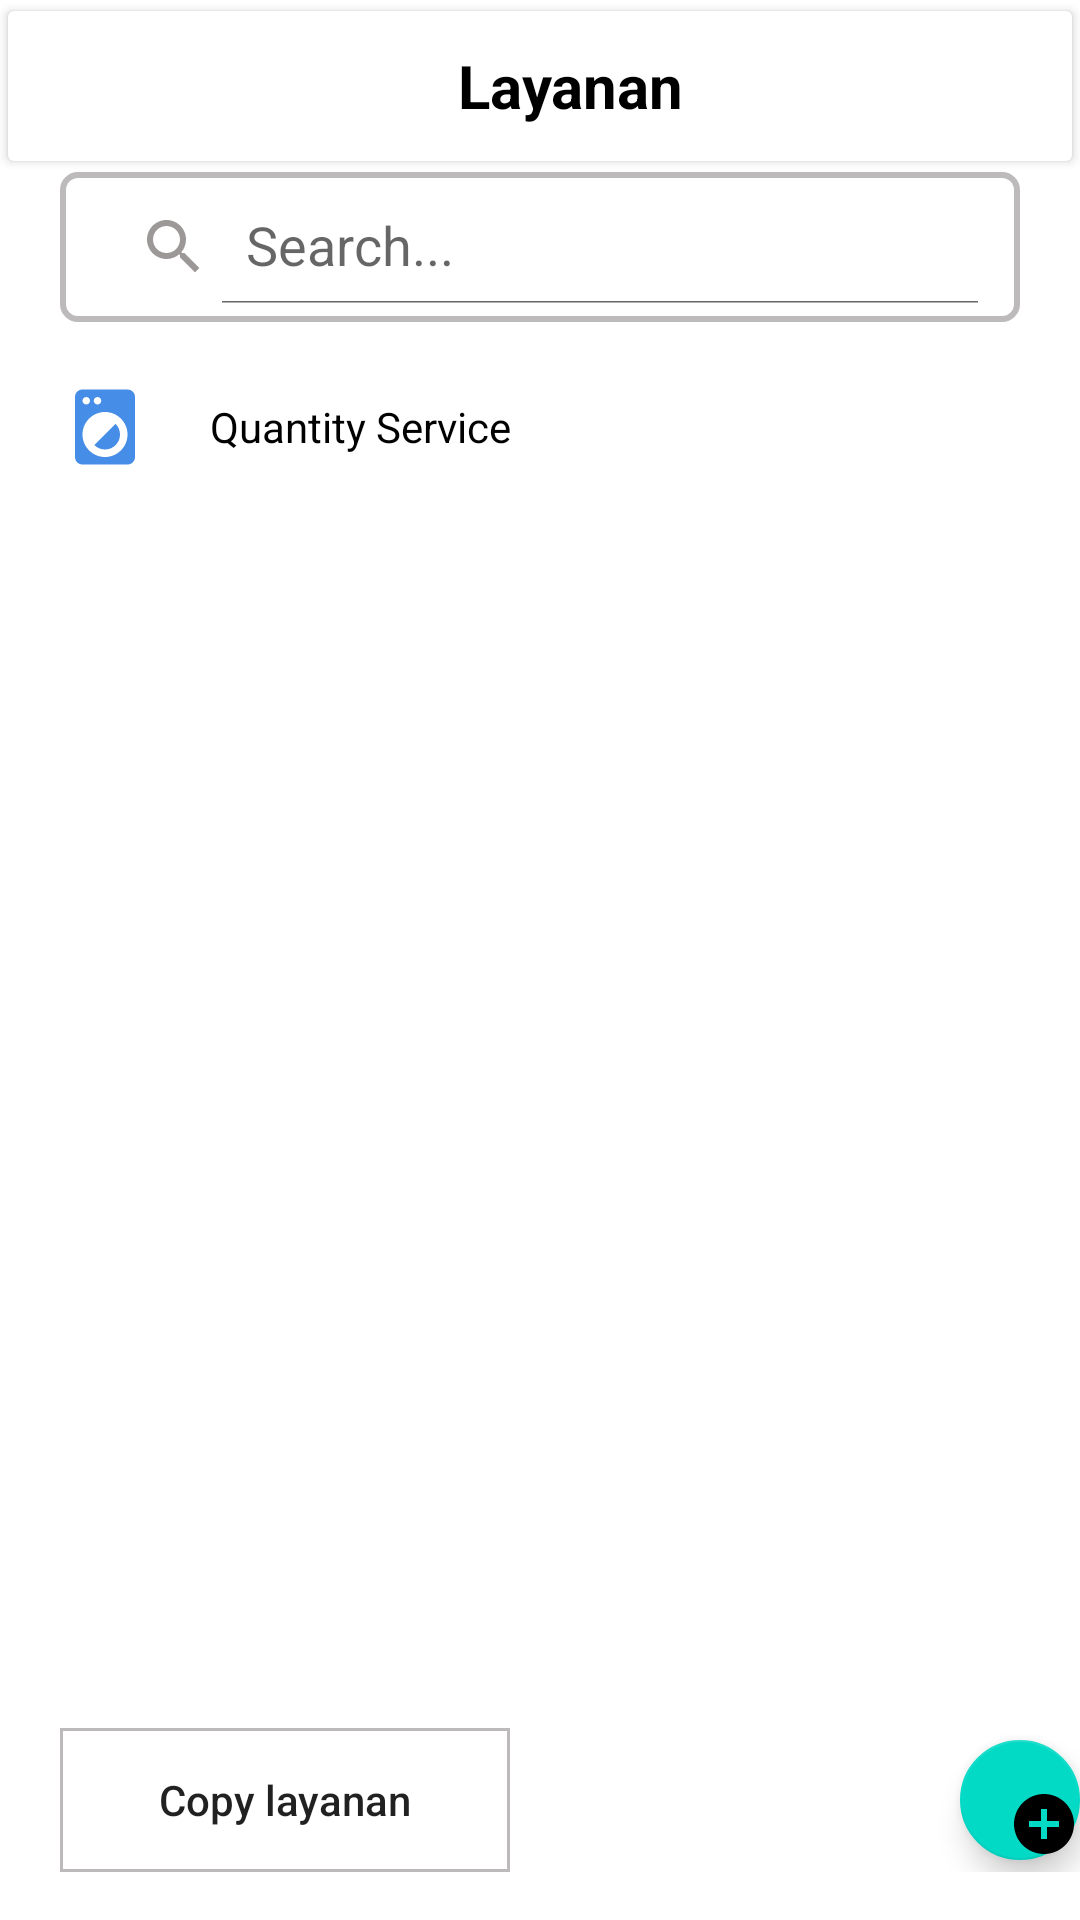

Screen size 1080×1920. Icon name, then its center in pixels as [x,y]:
Tambah Data Layanan: [1020,1800]
